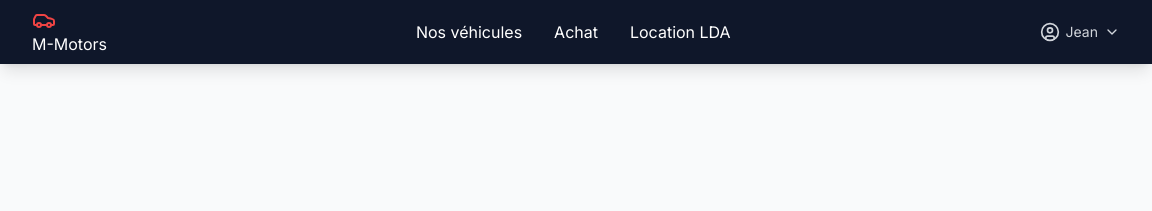
Scenario: Navbar › Utilisateur connecté (client) › affiche le dropdown au clic sur le prénom
The image size is (1152, 211).
What coordinates should you click on to do the following:
click the button "Jean"
I would click on:
 (1080, 32)
Its box is [1040,22,1120,42].
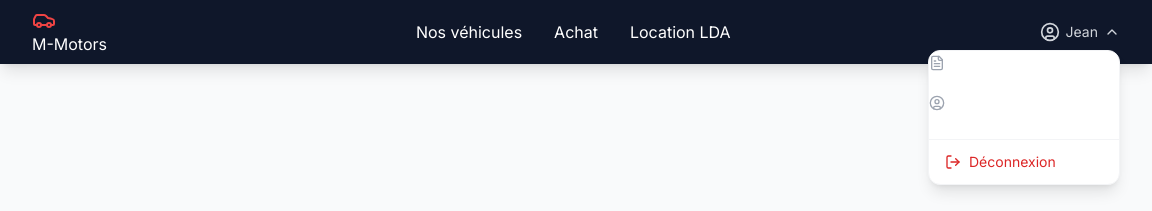
expect the link "Mes dossiers" is shown: met, box [929,55,1030,93]
expect the link "Mon profil" is shown: met, box [929,95,1006,133]
